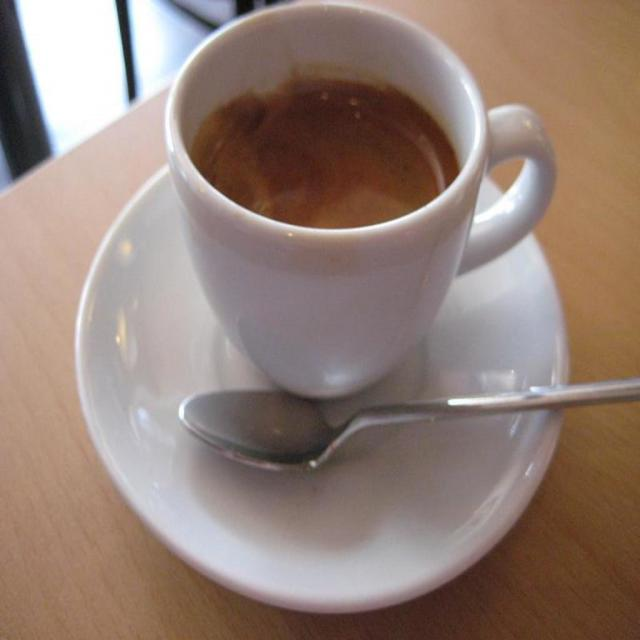Coffee: (184, 74, 455, 230)
Tea: (190, 75, 458, 231)
